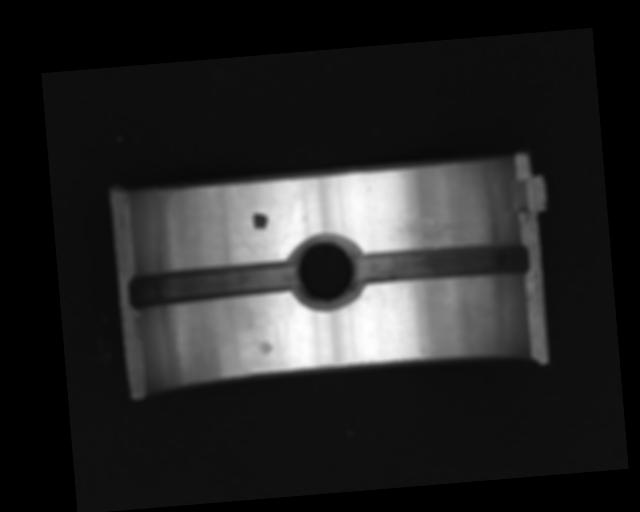blot: (252, 211, 269, 232)
bruise: (257, 339, 273, 356)
gap: (354, 239, 532, 288), (128, 259, 297, 307)
hole: (286, 235, 363, 309)
nick: (395, 286, 411, 342)
scratch: (394, 203, 475, 249)
